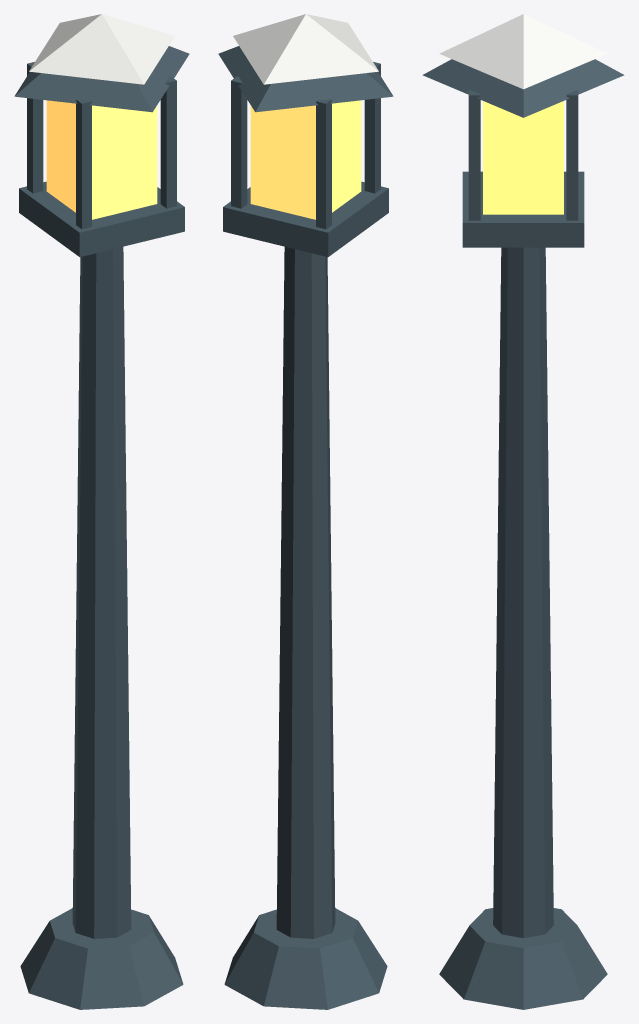
The model's file is lamp_a.glb.
3 views of the same model, side by side, from view 1: azimuth 30°, elevation 25°; view 2: azimuth 150°, elevation 25°; view 3: azimuth 270°, elevation 25° (orthographic).
Parts seen in each view (by area): view 1: village-lamppost-iron, village-lamppost-amber, village-lamppost-snow; view 2: village-lamppost-iron, village-lamppost-amber, village-lamppost-snow; view 3: village-lamppost-iron, village-lamppost-amber, village-lamppost-snow.
Boxes of the visible parts, x1,y1,x2,y2 form: village-lamppost-iron: (14,46,189,1009); village-lamppost-amber: (46,100,157,219); village-lamppost-snow: (29,14,174,84); village-lamppost-iron: (218,46,393,1009); village-lamppost-amber: (250,100,361,219); village-lamppost-snow: (233,14,378,84); village-lamppost-iron: (422,59,624,1009); village-lamppost-amber: (483,101,563,214); village-lamppost-snow: (439,14,607,89).
Bounding box in the file's own units: 0.5999 × 3.14 × 0.5999.
